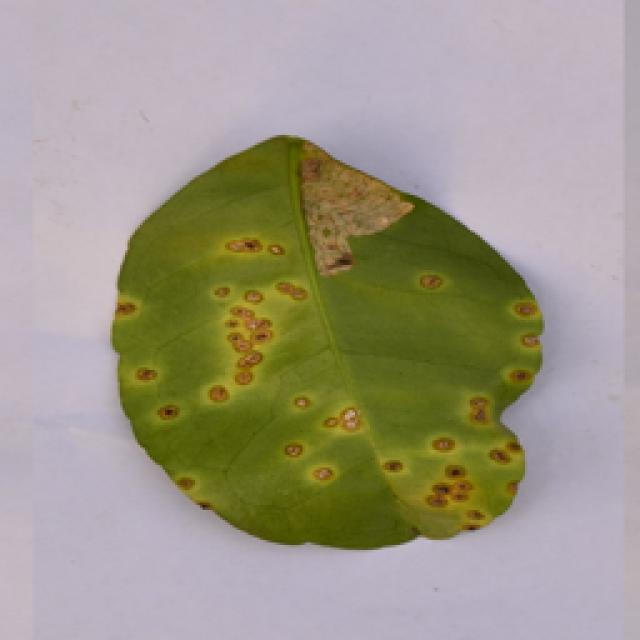canker: (102, 161, 556, 555)
